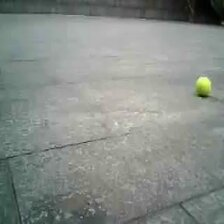tennis: (196, 77, 211, 93)
